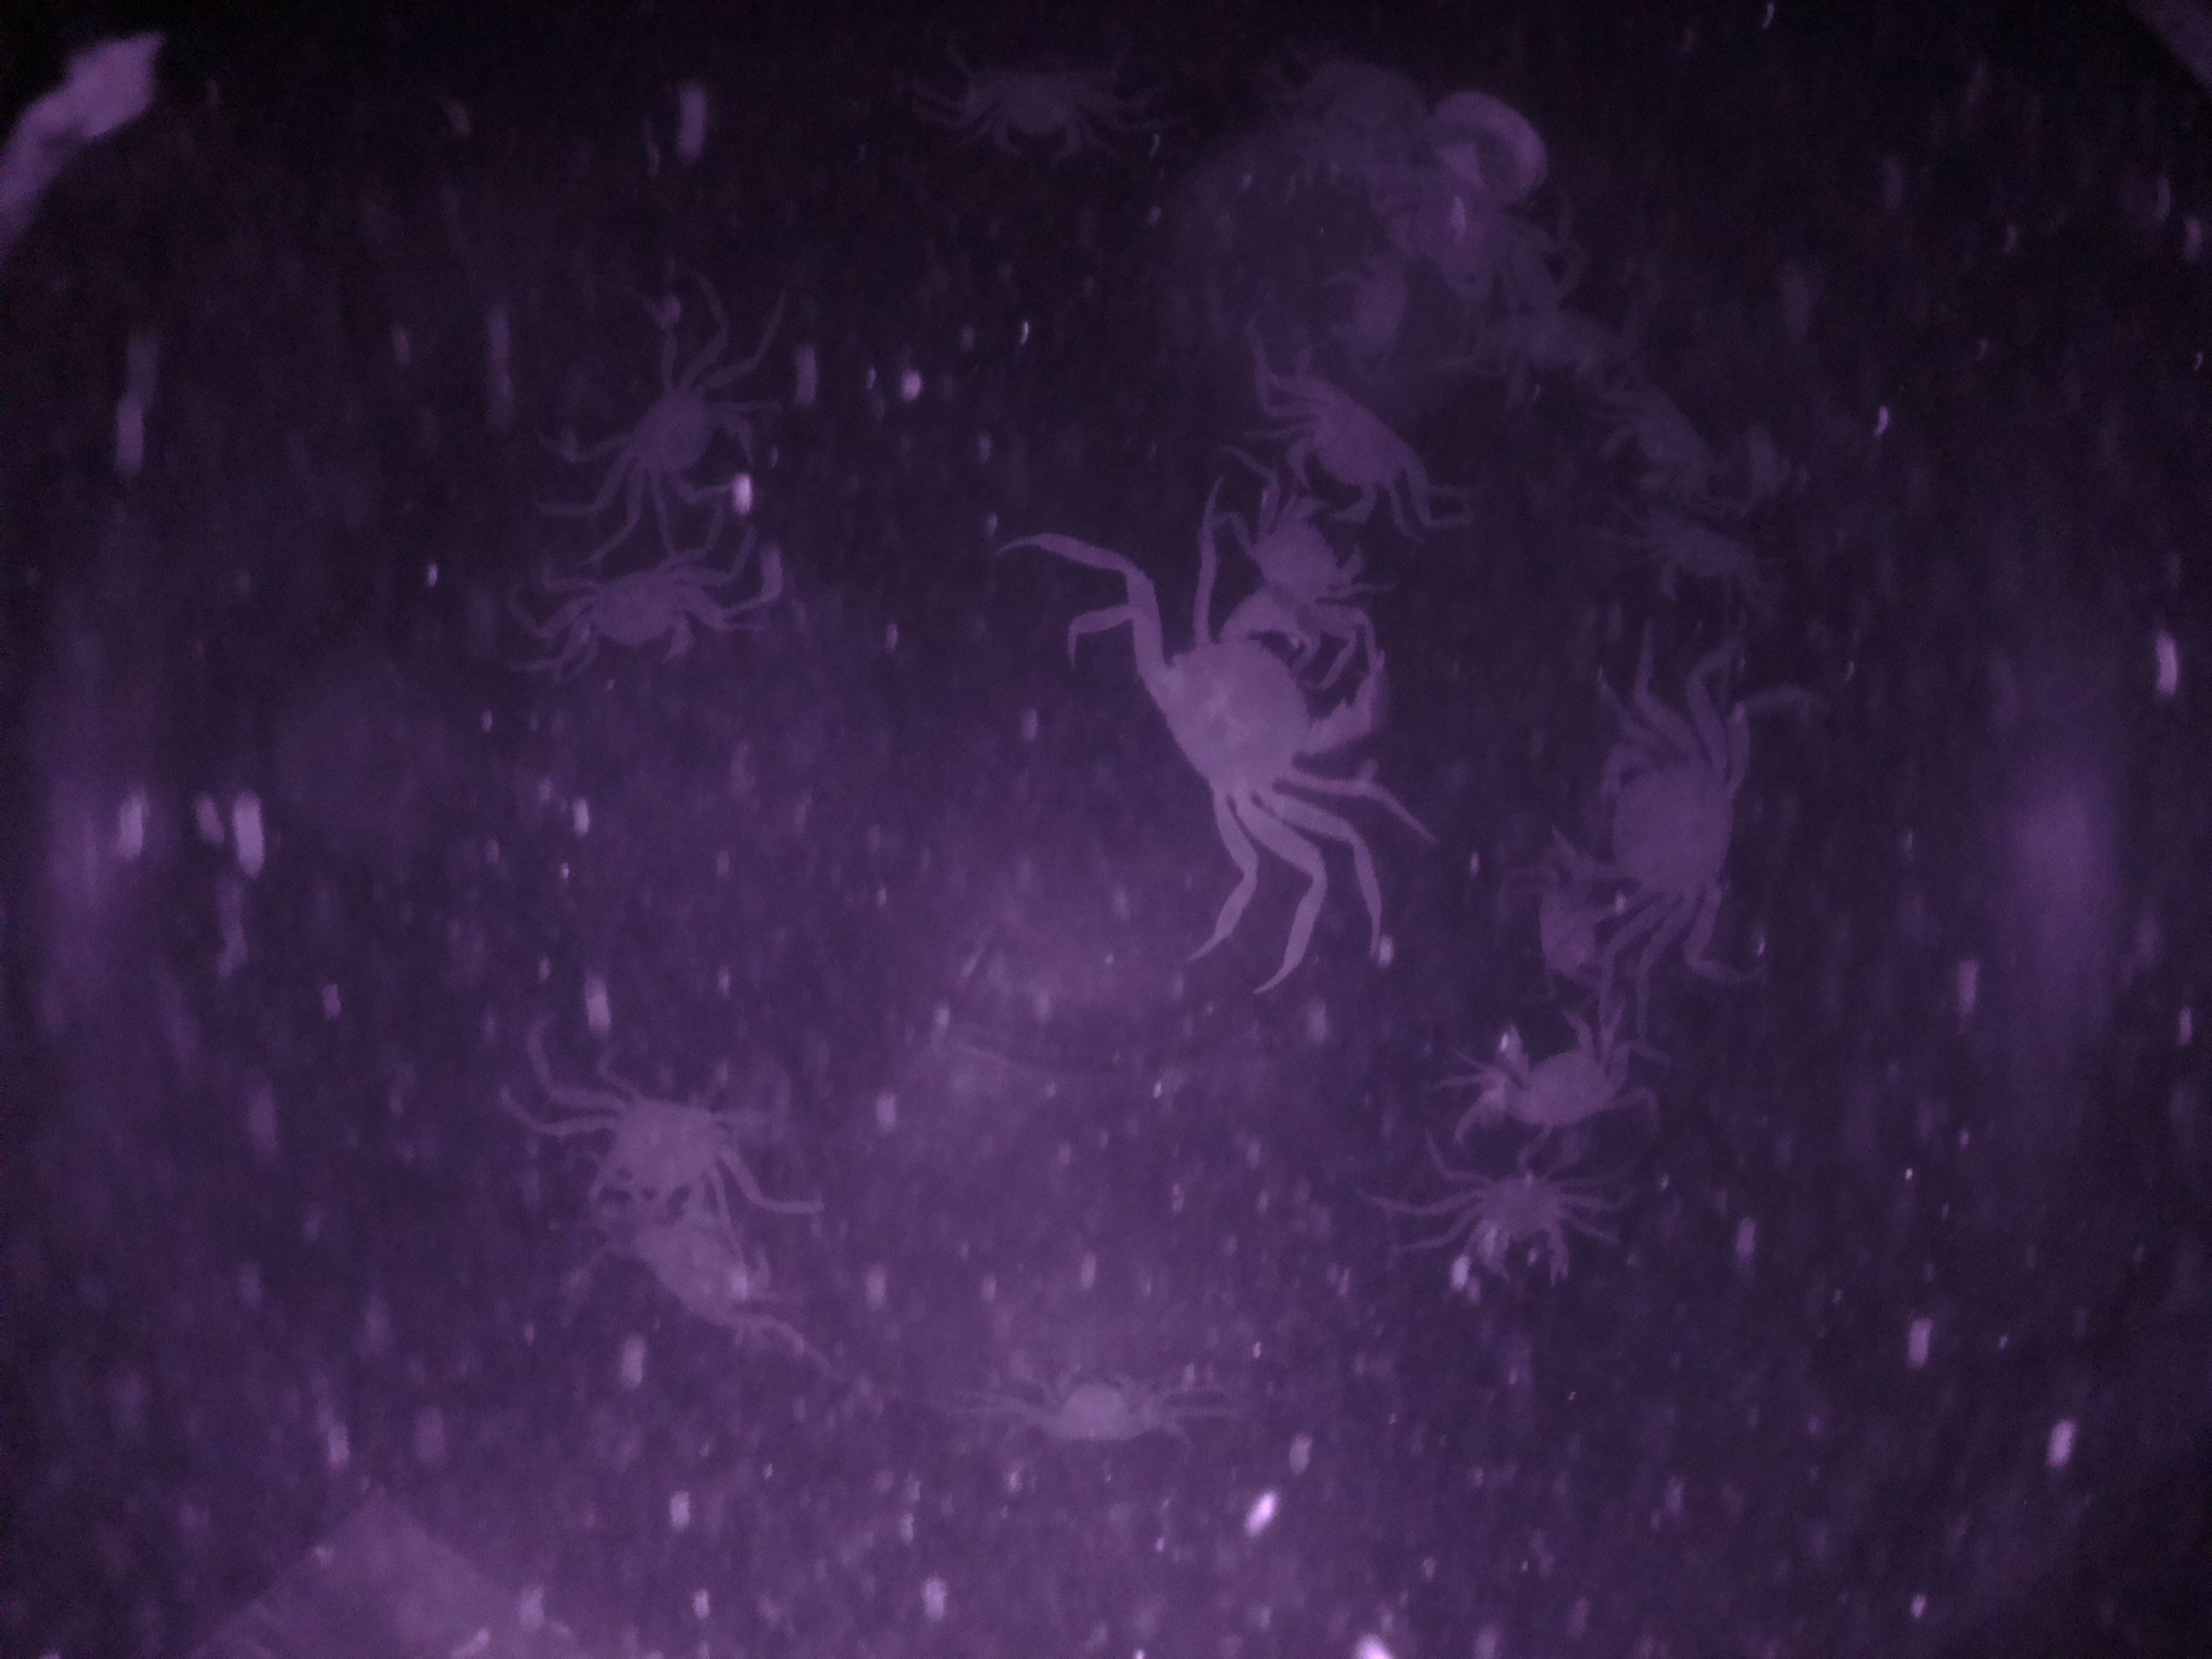Crab: (1106, 572, 1416, 852), (1531, 709, 1777, 950), (1259, 352, 1446, 542), (603, 352, 772, 519), (1479, 1000, 1662, 1145), (1433, 1159, 1606, 1309), (545, 542, 733, 674)
